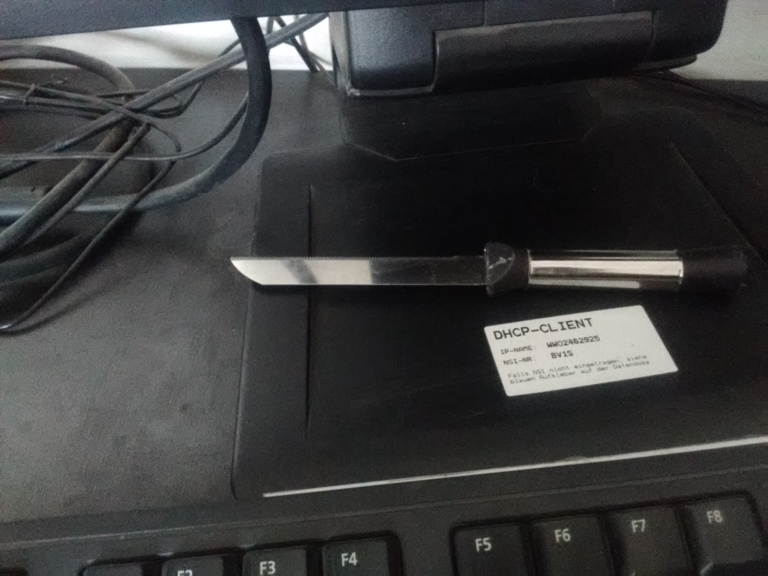knife: (223, 241, 751, 298)
